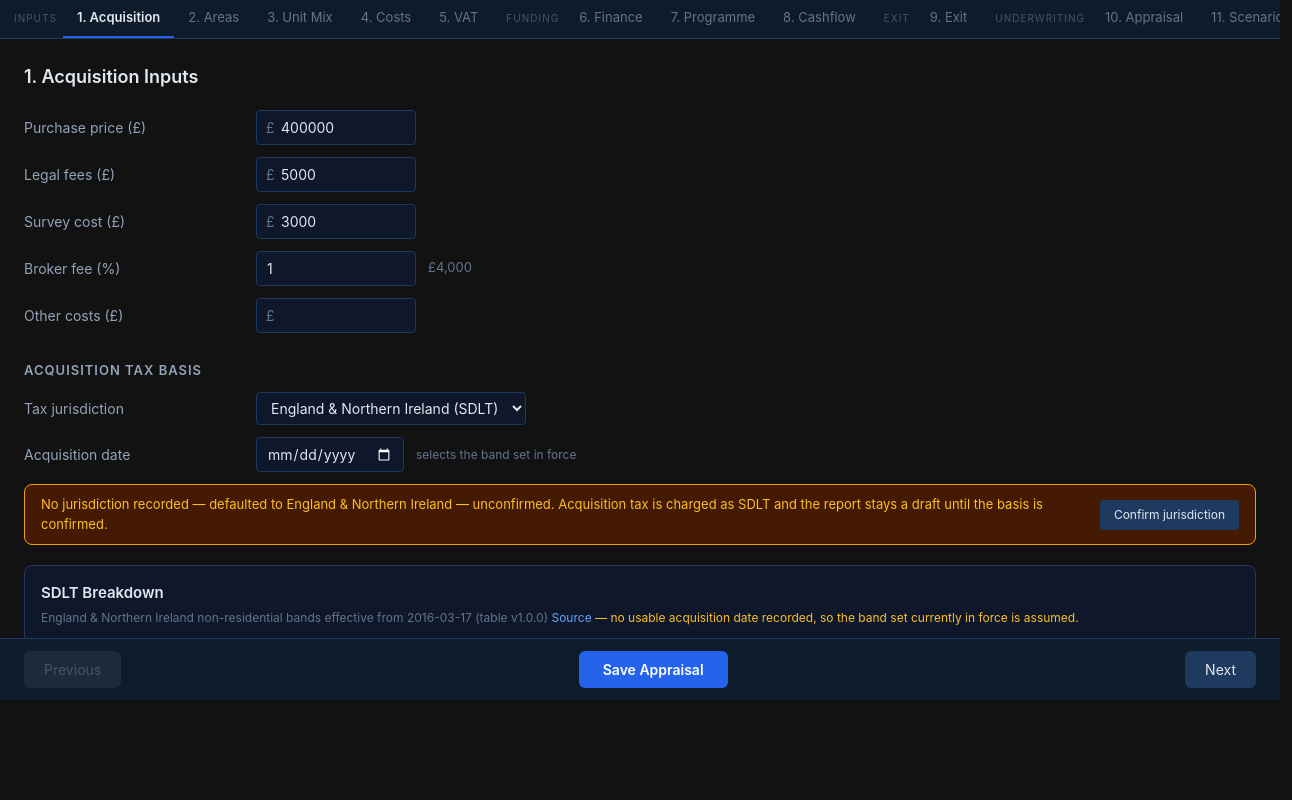
it: ConversionCalculator adopts the saved snapshot the server returns (R8 Task 11) › a snapshot the migration cannot read leaves the local document alone and is not a save failure
The width and height of the screenshot is (1292, 800).
Step 1. Click the button "Save Appraisal" → coordinates (653, 670), box [579,651,728,688]
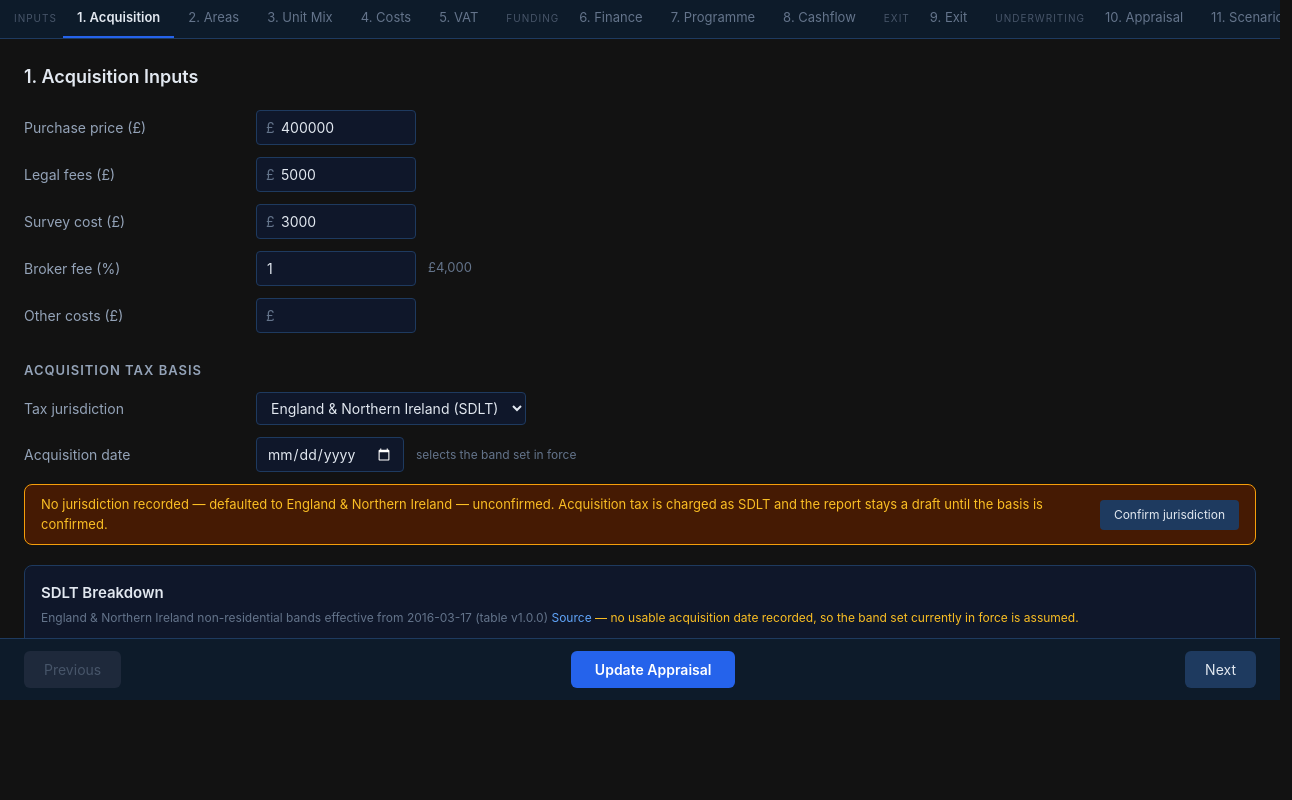
Expected: the heading "SDLT Breakdown" is shown, [41,583,164,602]
Expected: the button "Update Appraisal" is shown, [571,651,735,688]
